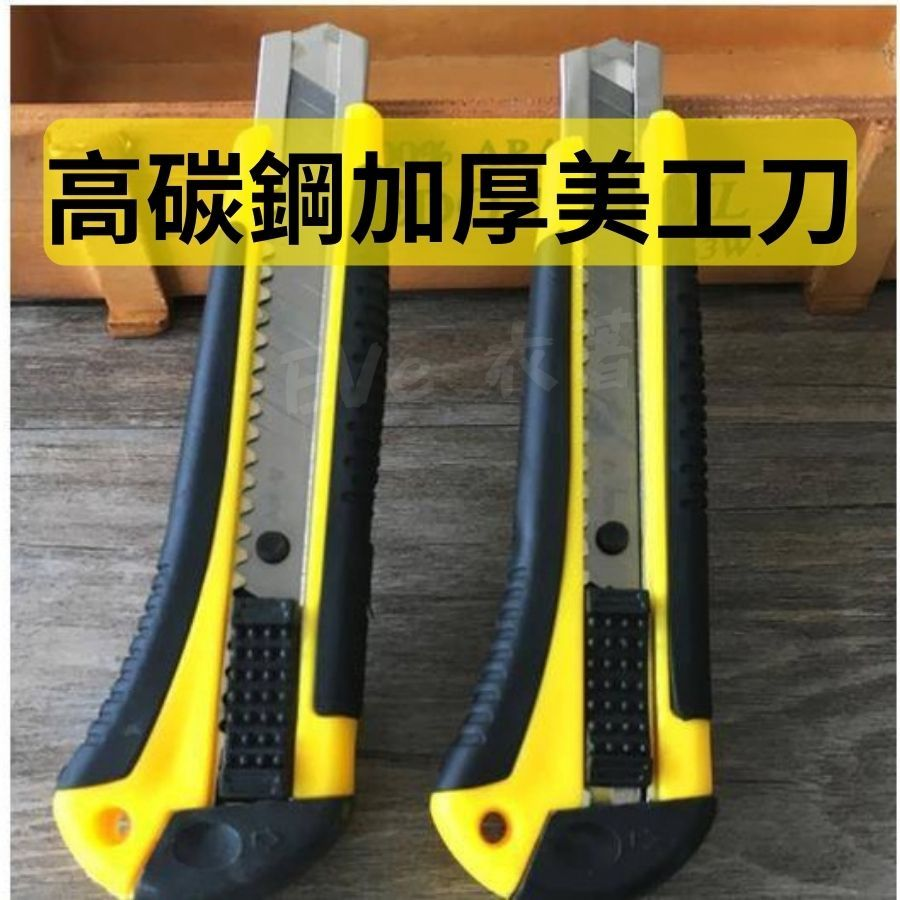cutter: (48, 14, 369, 899), (424, 28, 722, 900)
